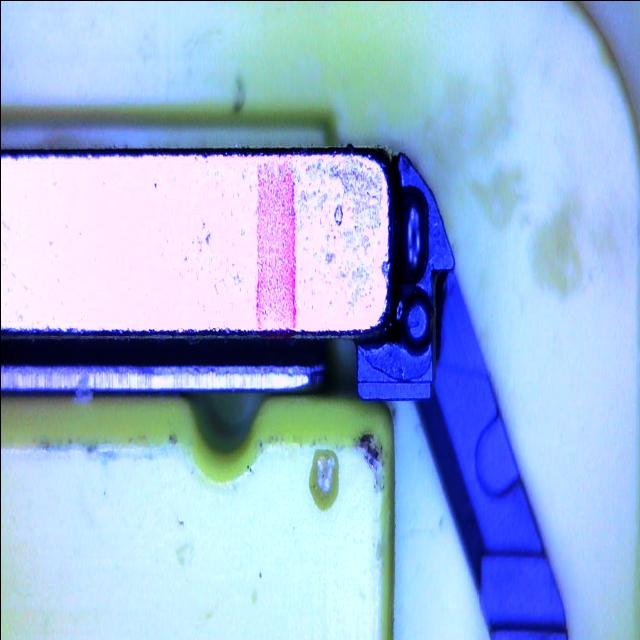over: (395, 183, 429, 287)
